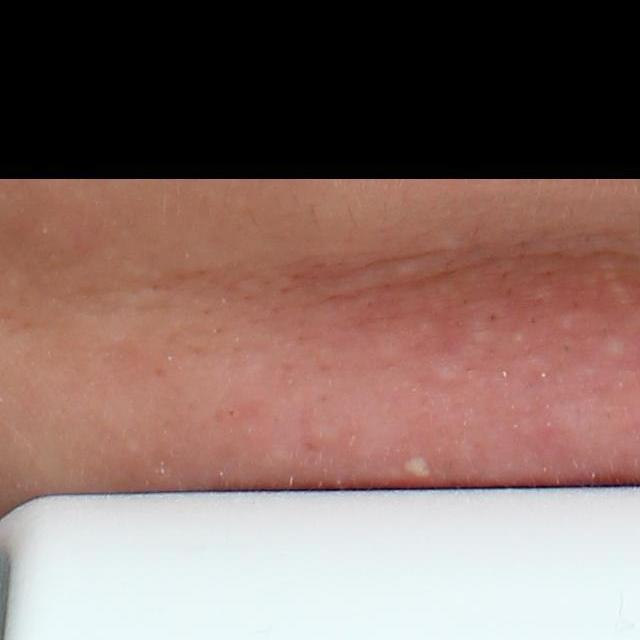pustule: (400, 453, 434, 482)
